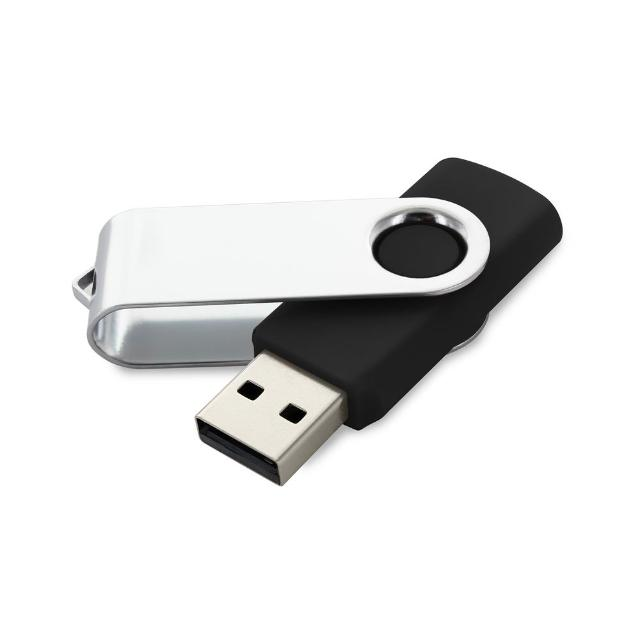USB-Flash-Drive: (76, 158, 566, 487)
